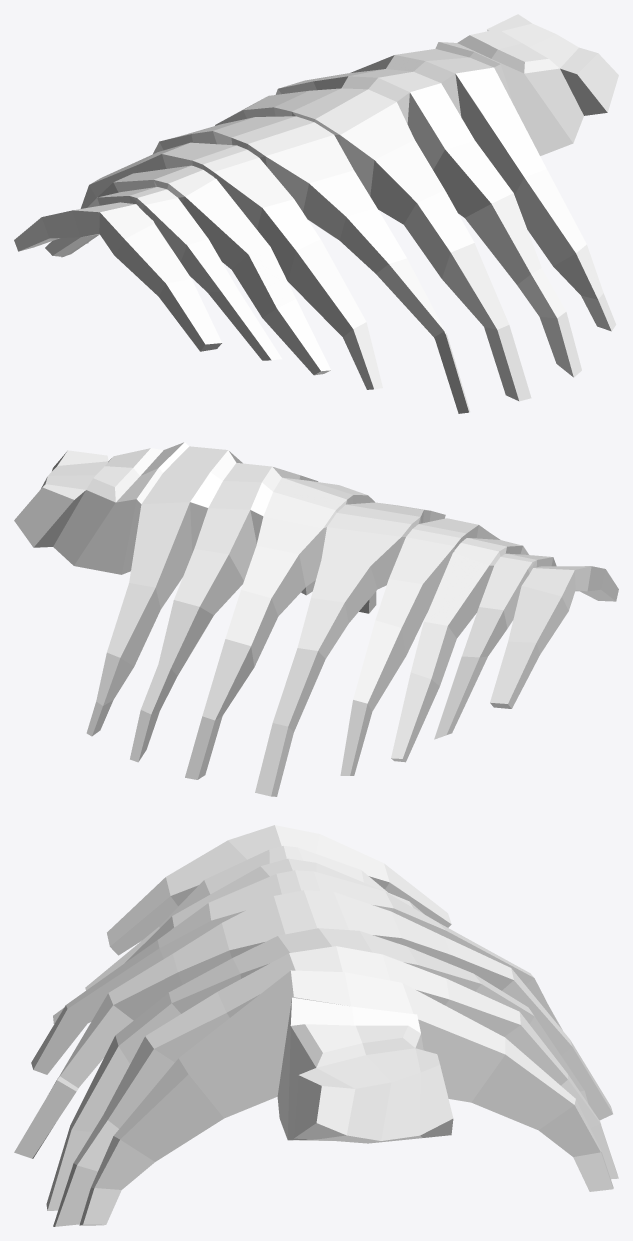
File: BizonBones.glb
The picture shows the model from 3 angles, top to bottom: view 1: azimuth 30°, elevation 25°; view 2: azimuth 150°, elevation 25°; view 3: azimuth 270°, elevation 25°; orthographic projection. The views are drawn at different scales.
Visible parts, largest first — view 1: Animal Bone; view 2: Animal Bone; view 3: Animal Bone.
Boxes of the visible parts, x1,y1,x2,y2 form: Animal Bone: [14, 14, 618, 413]; Animal Bone: [14, 442, 618, 796]; Animal Bone: [14, 825, 618, 1226].
Bounding box in the file's own units: 3.56 × 1.47 × 3.1.
1 material, 1 textured.
